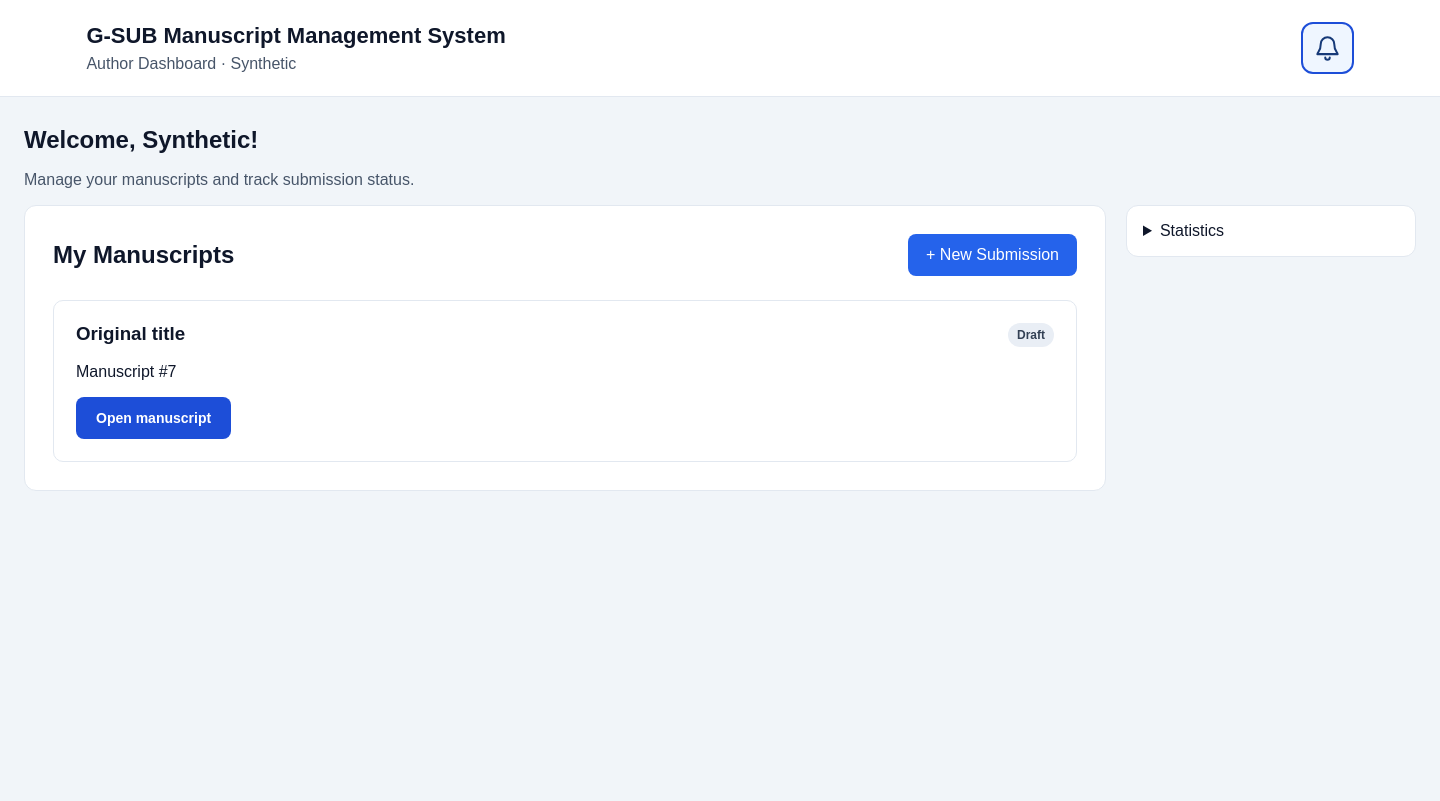
Test case: retains an unsaved field after a stale conflict and permits cancellation
The width and height of the screenshot is (1440, 801).
Later steps or results of the test are not shown.
Click the button "Open manuscript".
click(154, 418)  # box [76,397,231,439]
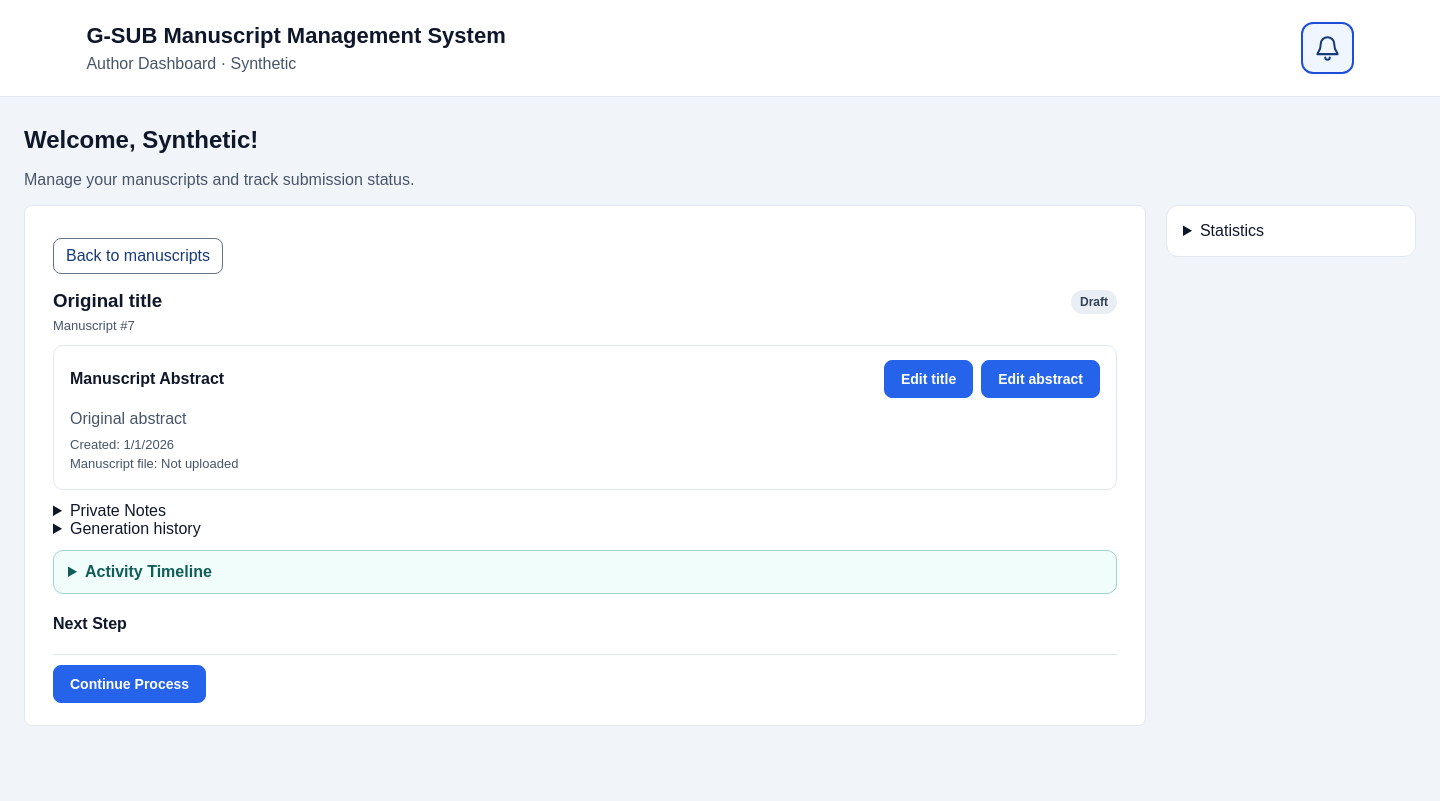
Click the button "Edit title".
click(929, 379)  # box [884,360,973,398]
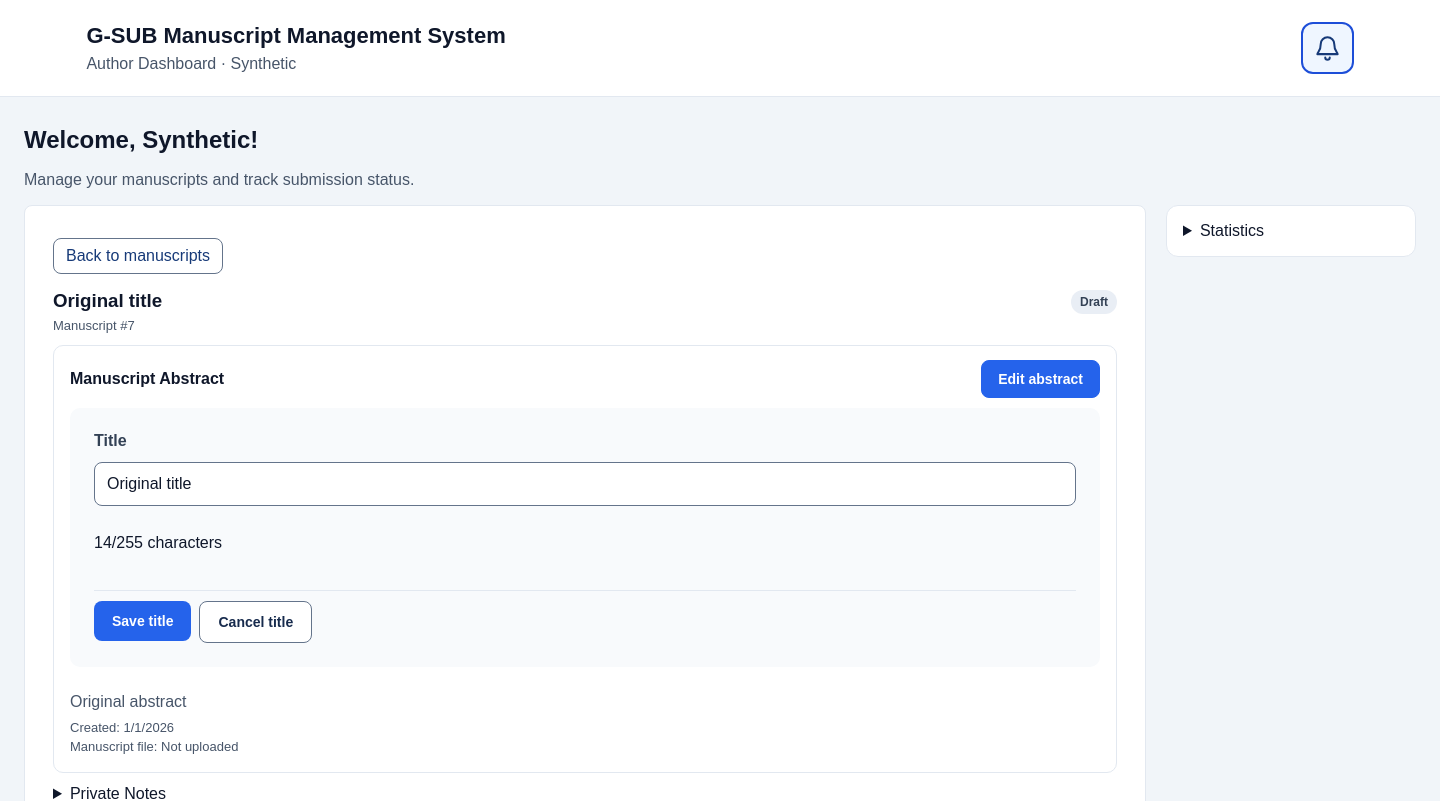
Replace the text in the field labelled "Title" with "Unsaved" at (585, 484), box [94,462,1076,506]
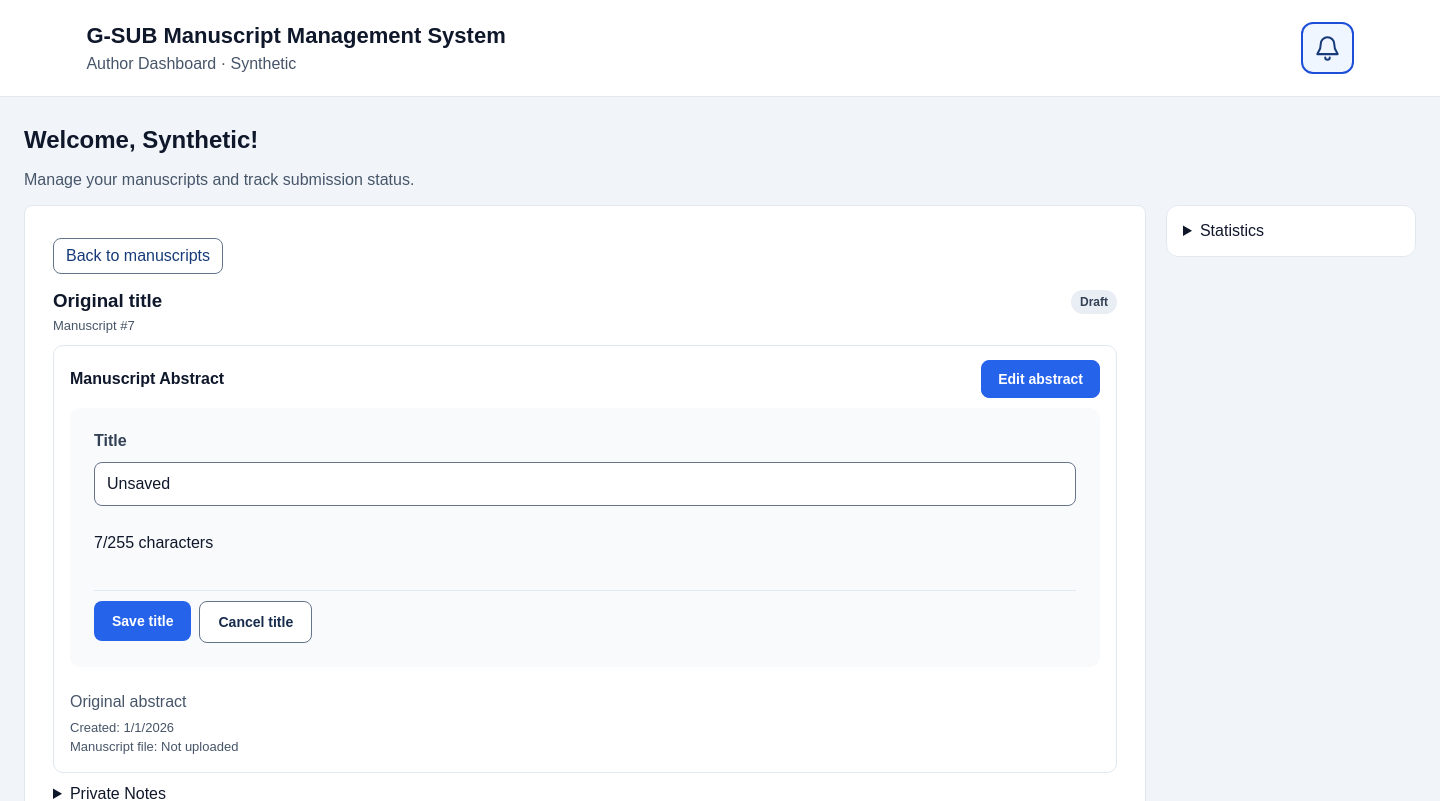
Click the button "Save title".
click(143, 621)  # box [94,601,192,641]
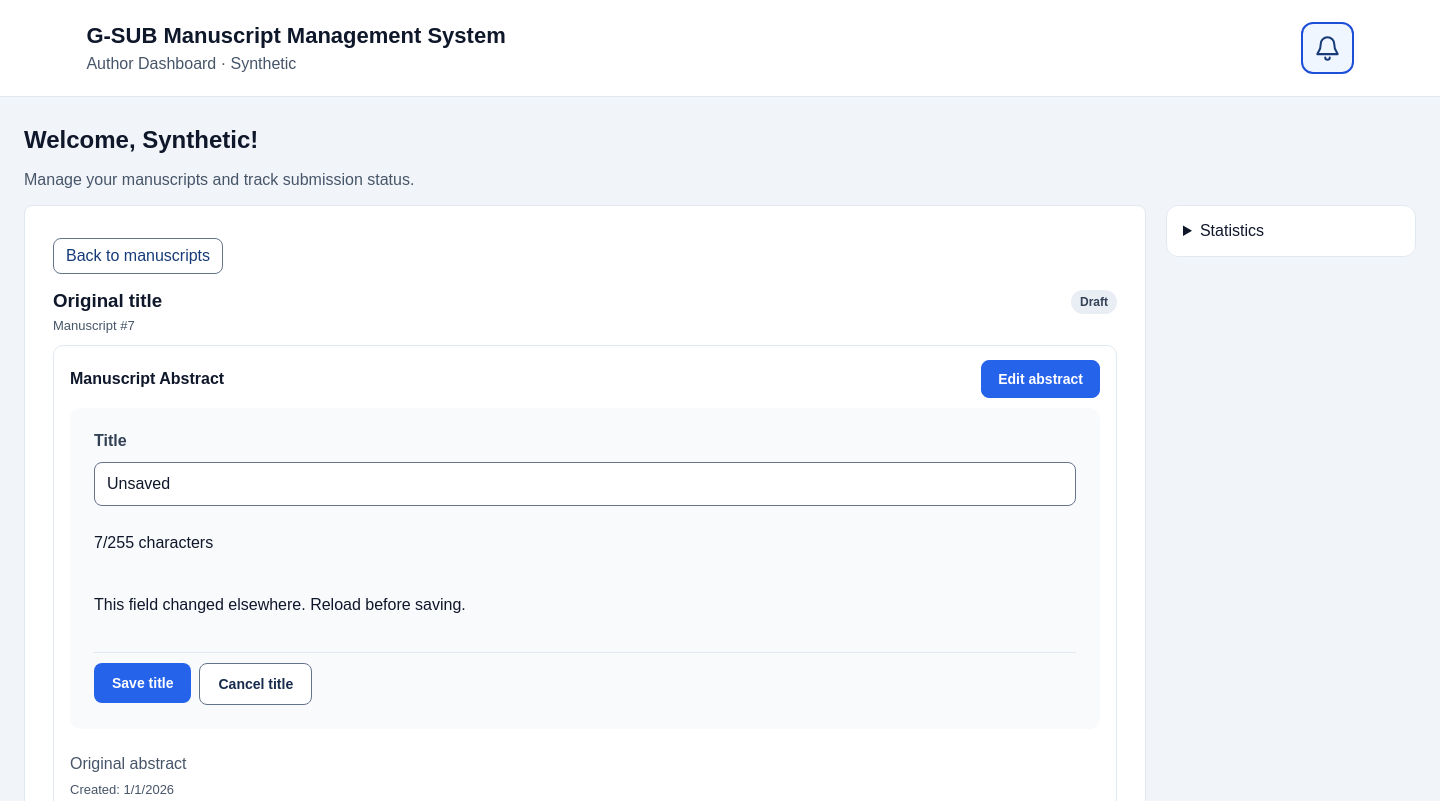
Result: the text "This field changed elsewhere. Reload before saving." is shown at [94,596,466,613]
